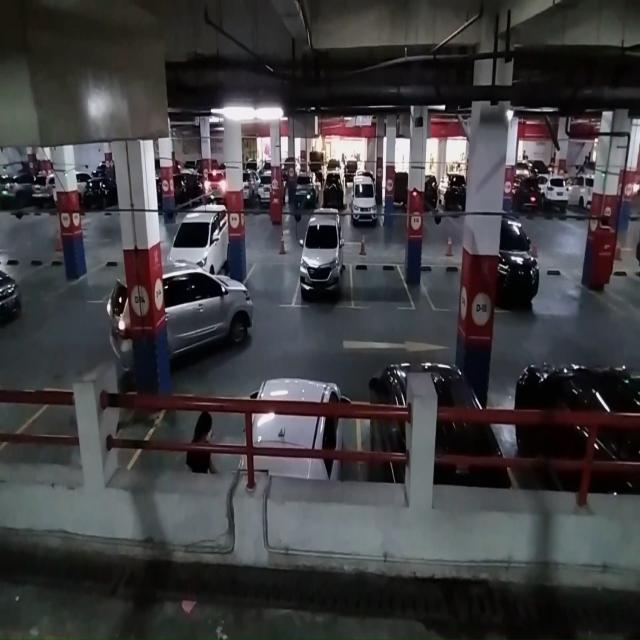empty: (350, 258, 411, 310), (246, 256, 297, 311), (422, 261, 462, 312)
occupied: (295, 246, 353, 309)
